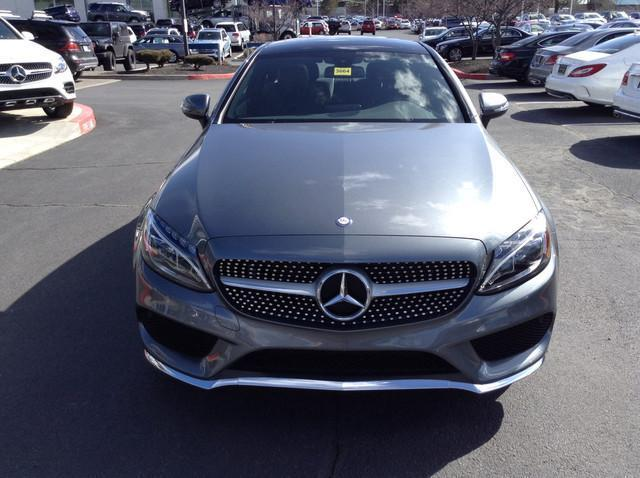C300Coupe: (131, 26, 568, 409)
